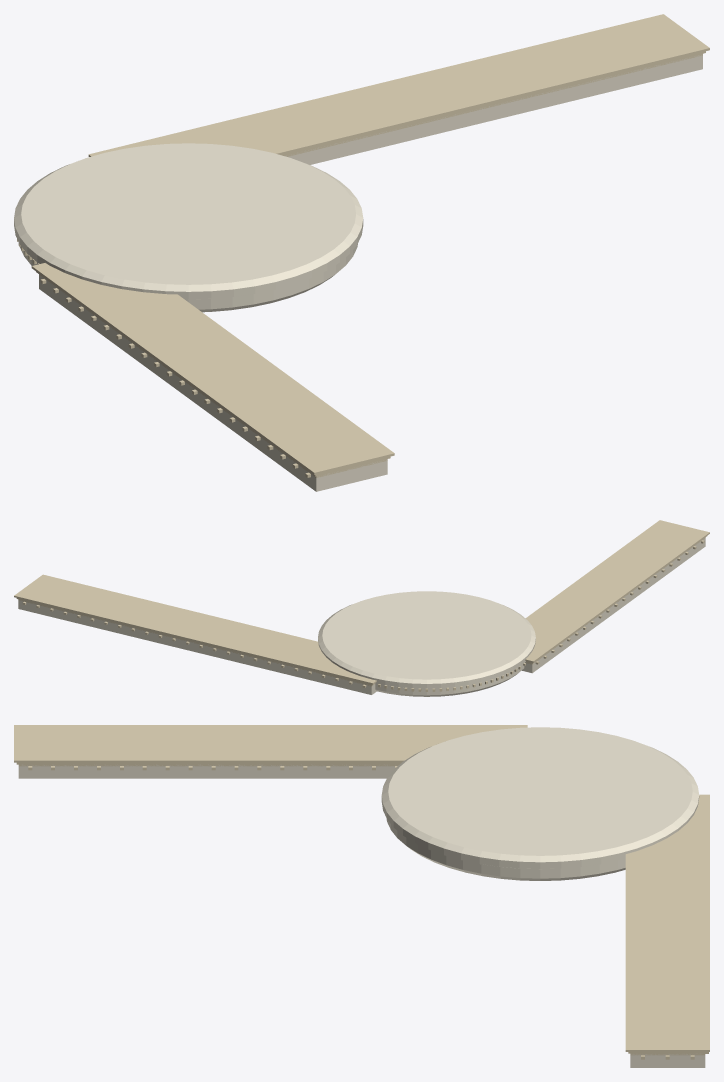
Rendered from KOL_T1_GPO__02_Entablature.fbx.
3 views of the same model, one above another, from view 1: azimuth 30°, elevation 25°; view 2: azimuth 150°, elevation 25°; view 3: azimuth 270°, elevation 25° (orthographic). The views are drawn at different scales.
Visible parts, largest first — view 1: KOL_T1_GPO__02_Entablature__KOL_T1_HeritageWhite, KOL_T1_GPO__02_Entablature__KOL_T1_HeritageCream; view 2: KOL_T1_GPO__02_Entablature__KOL_T1_HeritageWhite, KOL_T1_GPO__02_Entablature__KOL_T1_HeritageCream; view 3: KOL_T1_GPO__02_Entablature__KOL_T1_HeritageWhite, KOL_T1_GPO__02_Entablature__KOL_T1_HeritageCream.
Part boxes in pixels (x1,y1,x2,y2): KOL_T1_GPO__02_Entablature__KOL_T1_HeritageWhite: (14, 54, 702, 491); KOL_T1_GPO__02_Entablature__KOL_T1_HeritageCream: (17, 14, 709, 477); KOL_T1_GPO__02_Entablature__KOL_T1_HeritageWhite: (18, 538, 705, 696); KOL_T1_GPO__02_Entablature__KOL_T1_HeritageCream: (14, 520, 709, 691); KOL_T1_GPO__02_Entablature__KOL_T1_HeritageWhite: (18, 727, 705, 1067); KOL_T1_GPO__02_Entablature__KOL_T1_HeritageCream: (14, 725, 709, 1059).
Size of the model in its own units: 154 by 5.8 by 139.
